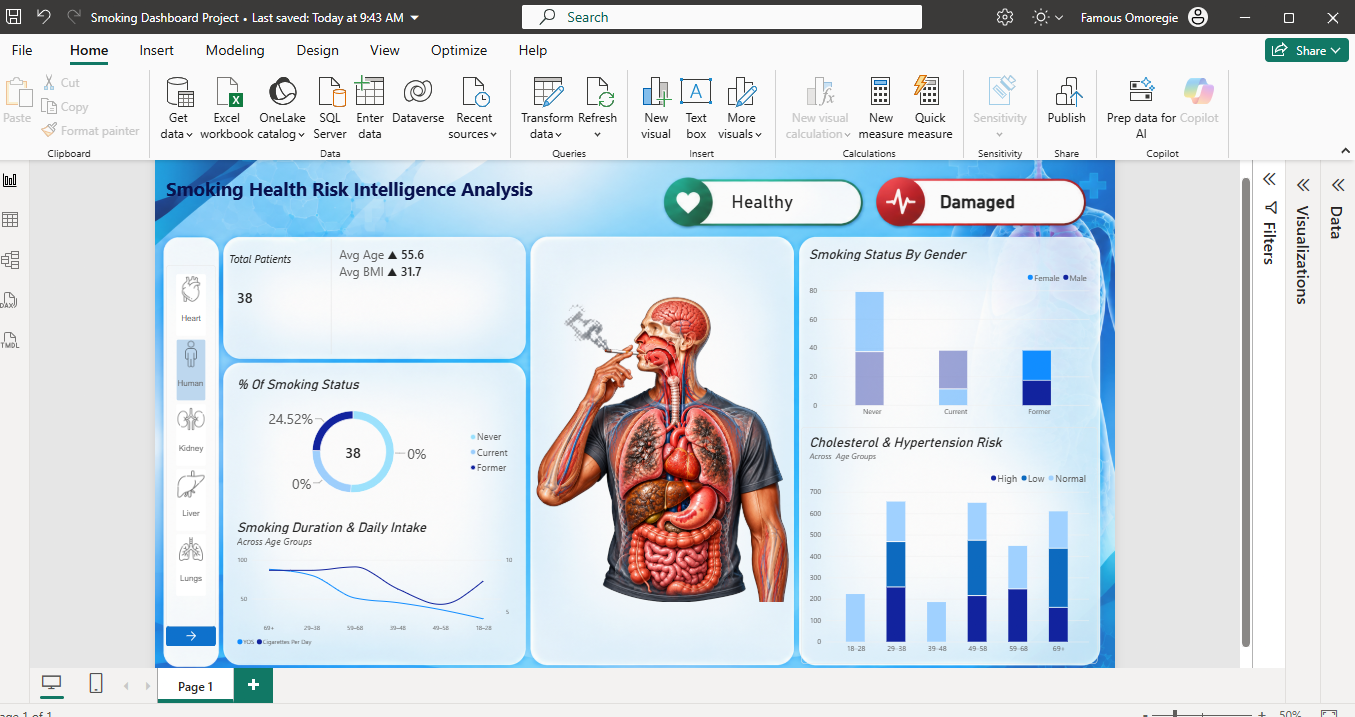

What the dashboard file says about the page in this screenshot:
{"tool":"powerbi","page":{"name":"Page 1","canvas":[1920,1080],"ordinal":0},"visuals":[{"type":"advancedSlicerVisual","fields":{"Values":["condition.Organ_Condition"]},"box":[1003.5,51,852.5,102],"z":0},{"type":"cardVisual","fields":{"Data":["CountNonNull(health_dataset.Patient_ID)"]},"box":[148.8,178.6,582.5,231.7],"z":1000},{"type":"textbox","box":[148.8,202,244.5,27.6],"z":2000},{"type":"actionButton","box":[21.3,952.4,99.9,40.4],"z":3000},{"type":"ChicletSlicer1448559807354","fields":{"Category":["Organs.Organ"],"Image":["Organs.Icon_URL"]},"box":[21.3,229.6,99.9,722.8],"z":4000},{"type":"image","box":[756.9,178.6,514.5,835.5],"z":5000},{"type":"donutChart","title":"% Of Smoking Status","fields":{"Category":["health_dataset.Smoking_Status"],"Y":["CountNonNull(health_dataset.Smoking_Status)"]},"box":[148.8,438,582.5,287],"z":6000},{"type":"lineChart","title":"Smoking Duration & Daily Intake","fields":{"Category":["health_dataset.Age Group"],"Y":["Sum(health_dataset.Years_of_Smoking)"],"Y2":["Avg(health_dataset.Cigarettes_Per_Day)"]},"box":[148.8,725,582.5,289.1],"z":7000},{"type":"ribbonChart","title":"Smoking Status By Gender","fields":{"Category":["health_dataset.Smoking_Status"],"Series":["health_dataset.Gender"],"Y":["CountNonNull(health_dataset.Patient_ID)"]},"box":[1292.6,178.6,593.1,376.3],"z":7001},{"type":"columnChart","title":"Cholesterol & Hypertension Risk","fields":{"Category":["health_dataset.Age Group"],"Series":["health_dataset.BP_Risk"],"Y":["Avg(health_dataset.Cholesterol_Level)"]},"box":[1292.6,554.9,593.1,474.1],"z":7002},{"type":"textbox","box":[21.3,51,778.1,102],"z":7003}]}

Visuals, with their boxes on the page's 1920x1080 design canvas (x1, y1, x2, y2). These are canvas units, not pixel positions in the 1355x717 screenshot, which may show the page scaled, cropped or inside an application window:
advancedSlicerVisual - condition.Organ_Condition: rect(1004, 51, 1856, 153)
cardVisual - CountNonNull(health_dataset.Patient_ID): rect(149, 179, 731, 410)
textbox: rect(149, 202, 393, 230)
actionButton: rect(21, 952, 121, 993)
ChicletSlicer1448559807354 - Organs.Organ x Organs.Icon_URL: rect(21, 230, 121, 952)
image: rect(757, 179, 1271, 1014)
"% Of Smoking Status" donutChart: rect(149, 438, 731, 725)
"Smoking Duration & Daily Intake" lineChart: rect(149, 725, 731, 1014)
"Smoking Status By Gender" ribbonChart: rect(1293, 179, 1886, 555)
"Cholesterol & Hypertension Risk" columnChart: rect(1293, 555, 1886, 1029)
textbox: rect(21, 51, 799, 153)
